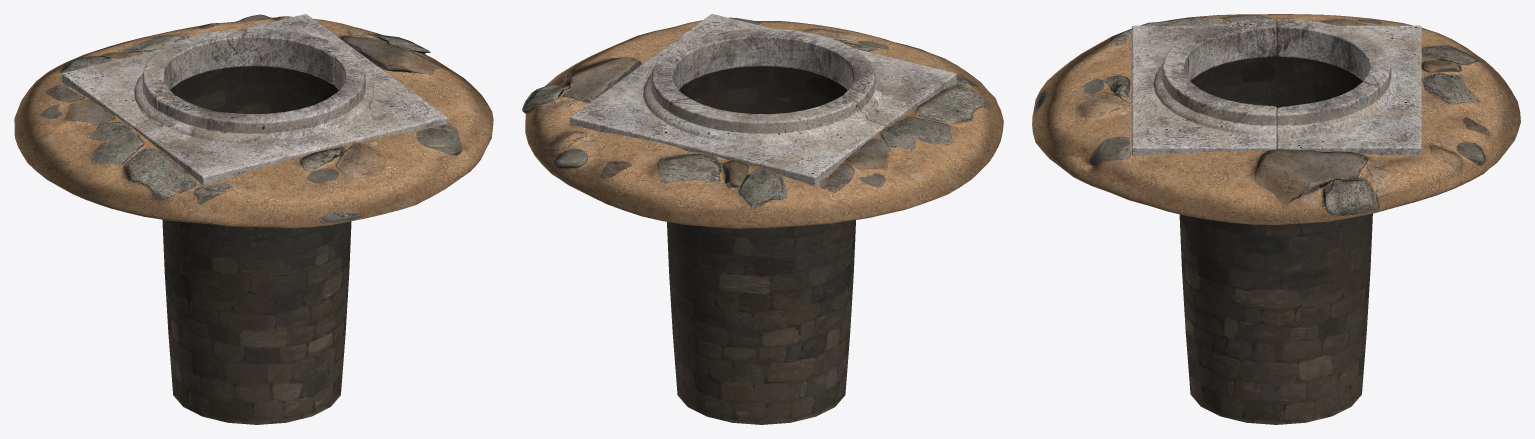
The model's file is well.glb.
The picture shows the model from 3 angles, left to right: view 1: azimuth 30°, elevation 25°; view 2: azimuth 150°, elevation 25°; view 3: azimuth 270°, elevation 25°; orthographic projection. The views are drawn at different scales.
Parts seen in each view (by area): view 1: SM_24ET0012_Low_M_24ET0012_2_0, SM_24ET0012_Low_M_24ET0012_3_0, SM_24ET0012_Low_M_24ET0012_1_0; view 2: SM_24ET0012_Low_M_24ET0012_2_0, SM_24ET0012_Low_M_24ET0012_3_0, SM_24ET0012_Low_M_24ET0012_1_0; view 3: SM_24ET0012_Low_M_24ET0012_2_0, SM_24ET0012_Low_M_24ET0012_3_0, SM_24ET0012_Low_M_24ET0012_1_0.
Boxes of the visible parts, x1,y1,x2,y2 form: SM_24ET0012_Low_M_24ET0012_2_0: [14, 14, 493, 228]; SM_24ET0012_Low_M_24ET0012_3_0: [162, 66, 351, 424]; SM_24ET0012_Low_M_24ET0012_1_0: [61, 14, 447, 185]; SM_24ET0012_Low_M_24ET0012_2_0: [522, 17, 1003, 228]; SM_24ET0012_Low_M_24ET0012_3_0: [667, 66, 855, 424]; SM_24ET0012_Low_M_24ET0012_1_0: [570, 14, 956, 185]; SM_24ET0012_Low_M_24ET0012_2_0: [1032, 14, 1520, 224]; SM_24ET0012_Low_M_24ET0012_3_0: [1179, 55, 1372, 424]; SM_24ET0012_Low_M_24ET0012_1_0: [1131, 18, 1421, 155].
Bounding box in the file's own units: 4.24 × 3.06 × 4.22.
Materials: 3 (3 with a texture image).
